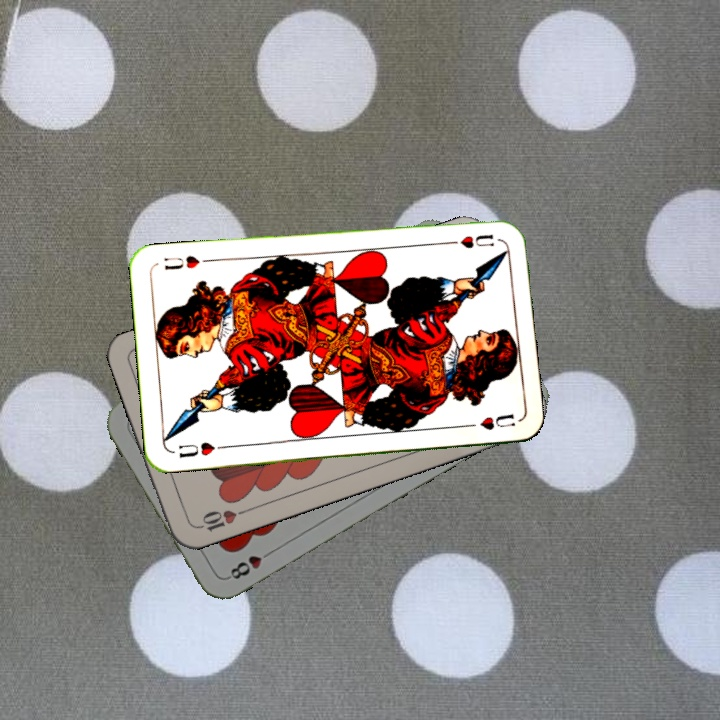H10: (191, 505, 249, 535)
H8: (223, 545, 276, 582)
HU: (174, 438, 228, 461), (456, 230, 496, 251)
